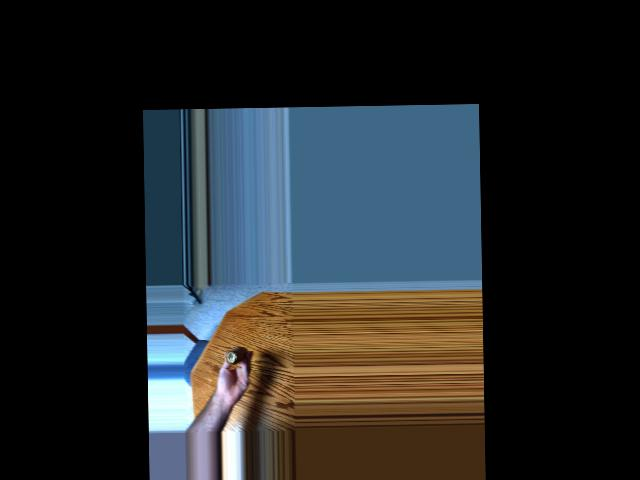sweet_potato: (221, 343, 248, 370)
